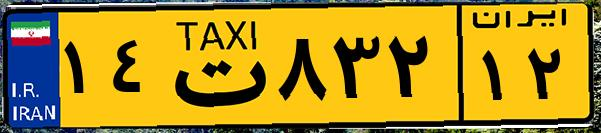1: (57, 26, 110, 100), (475, 38, 525, 113)
2: (385, 28, 445, 110), (525, 38, 570, 115)
3: (330, 28, 385, 110)
4: (110, 28, 158, 98)
8: (270, 28, 330, 110)
ت: (158, 12, 270, 120)
